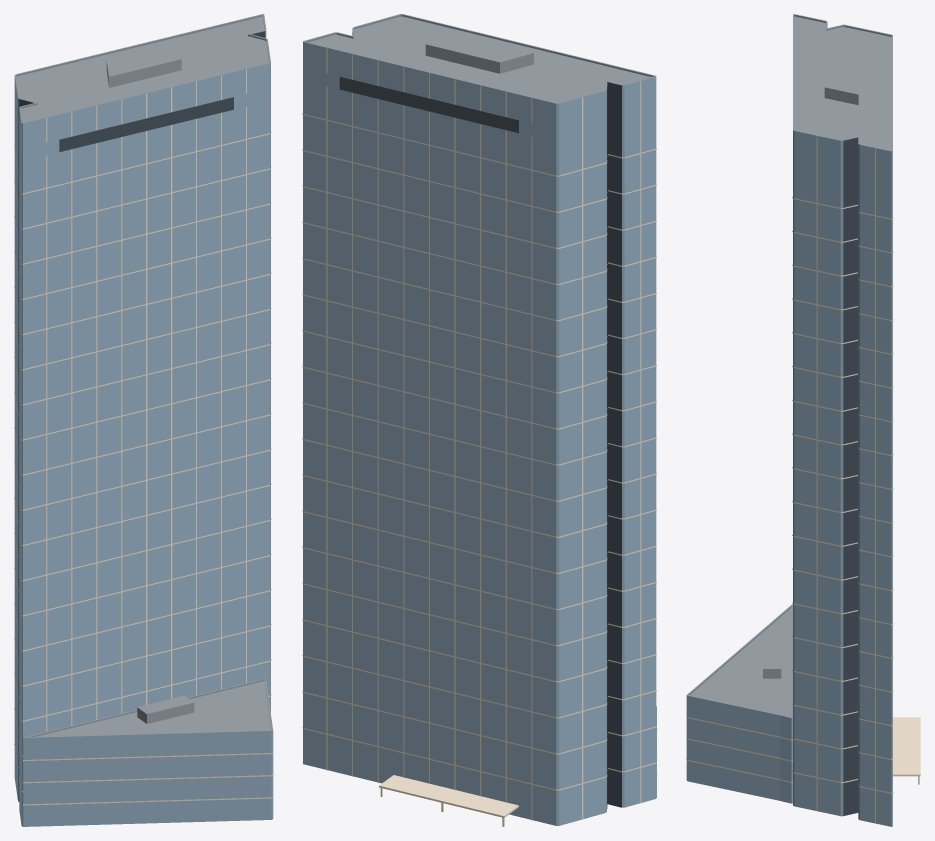
File: bos-200-clarendon.glb
The picture shows the model from 3 angles, left to right: view 1: azimuth 30°, elevation 25°; view 2: azimuth 150°, elevation 25°; view 3: azimuth 270°, elevation 25°; orthographic projection. The views are drawn at different scales.
Parts seen in each view (by area): view 1: 200 Clarendon; view 2: 200 Clarendon; view 3: 200 Clarendon.
Boxes of the visible parts, x1,y1,x2,y2 form: 200 Clarendon: (14, 14, 273, 826); 200 Clarendon: (302, 14, 657, 826); 200 Clarendon: (686, 14, 920, 826).
Bounding box in the file's own units: 105 × 244 × 75.73.
